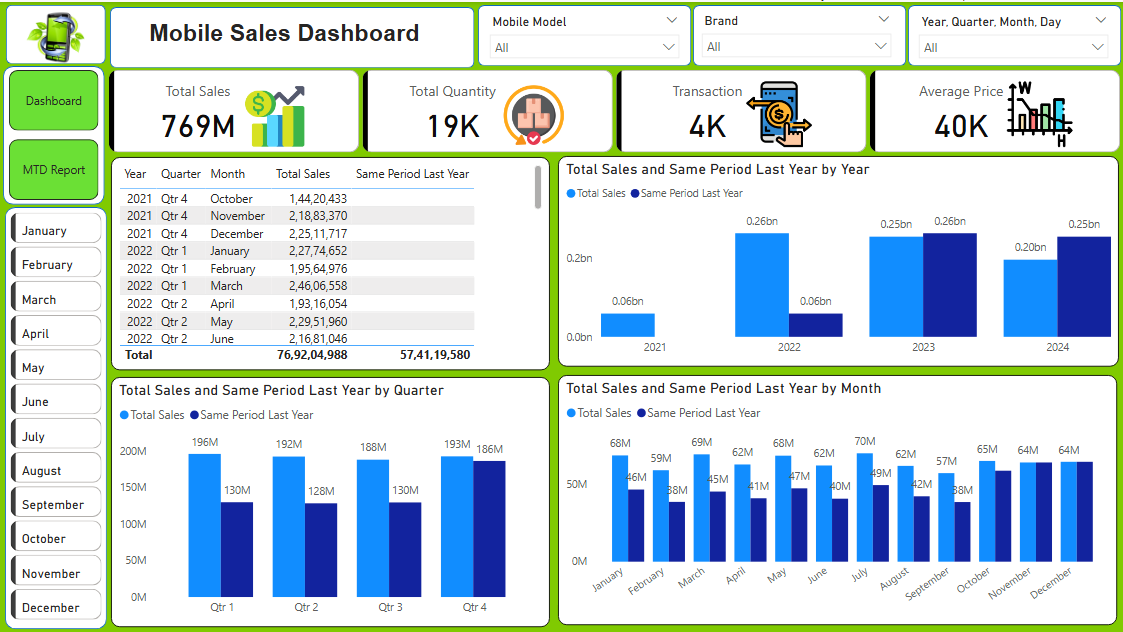

What the dashboard file says about the page in this screenshot:
{"tool":"powerbi","page":{"name":"Dashboard","canvas":[1280,720],"ordinal":0},"visuals":[{"type":"shape","box":[5.1,2.6,115.7,69.4],"z":0},{"type":"shape","box":[5.1,233.9,116,481],"z":1000},{"type":"image","box":[6.4,5.1,114.4,69.4],"z":2000},{"type":"shape","box":[3.9,73,115.7,158.1],"z":3000},{"type":"advancedSlicerVisual","fields":{"Values":["Custome_Calander.Date.Variation.Date Hierarchy.Month"]},"box":[5.1,236.5,114.4,474.2],"z":4000},{"type":"shape","box":[1034,3.9,242.9,69.4],"z":5000},{"type":"shape","box":[789,3.9,242.9,69.4],"z":6000},{"type":"shape","box":[544,3.9,242.9,69.4],"z":7000},{"type":"slicer","fields":{"Values":["Mobile Sales Data.Mobile Model"]},"box":[547.5,9,236.5,61],"z":8000},{"type":"slicer","fields":{"Values":["Mobile Sales Data.Brand"]},"box":[789.1,7.7,236.5,60.4],"z":9000},{"type":"slicer","fields":{"Values":["Mobile Sales Data.Payment Method"]},"box":[1037.1,9,236.5,60.4],"z":10000},{"type":"cardVisual","fields":{"Data":["Mobile Sales Data.Total Sales","Mobile Sales Data.Total Quantity","Mobile Sales Data.Transaction","Mobile Sales Data.Average Price"]},"box":[123,76,1154.1,96],"z":11000},{"type":"shape","box":[125,5.1,415.1,69.4],"z":12000},{"type":"textbox","box":[159.4,20.6,329,37.3],"z":13000},{"type":"lineChart","fields":{"Y":["Mobile Sales Data.Total Quantity"],"Category":["Custome_Calander.Date.Variation.Date Hierarchy.Month"]},"box":[547.5,174.8,728.7,172.2],"z":14000},{"type":"funnel","fields":{"Y":["CountNonNull(Mobile Sales Data.Customer Ratings)"],"Category":["Mobile Sales Data.Rating Status"]},"box":[546,353.4,352.1,168.4],"z":15000},{"type":"pieChart","fields":{"Y":["Mobile Sales Data.Transaction"],"Category":["Mobile Sales Data.Payment Method"]},"box":[904,353.4,373,168.4],"z":16000},{"type":"barChart","fields":{"Y":["Mobile Sales Data.Total Sales"],"Category":["Mobile Sales Data.Mobile Model"]},"box":[124.7,526,415.1,188],"z":17000},{"type":"areaChart","fields":{"Category":["Custome_Calander.Day Name"],"Y":["Mobile Sales Data.Total Sales"]},"box":[546,526,352.1,188],"z":18000},{"type":"tableEx","fields":{"Values":["Mobile Sales Data.Brand","Mobile Sales Data.Total Sales","Mobile Sales Data.Transaction","Sum(Mobile Sales Data.Units Sold)"]},"box":[903,525,372,188],"z":19000},{"type":"pageNavigator","box":[11.6,78.4,101.5,146.5],"z":20000},{"type":"map","fields":{"Category":["Mobile Sales Data.City"],"Size":["Mobile Sales Data.Total Sales"]},"box":[124.7,172.2,415.1,349.6],"z":21000}]}

Visuals, with their boxes in screenshot pixels (x1, y1, x2, y2), scaled from the page's 1280x720 canvas onto the 1123x632 screenshot:
shape: [x1=4, y1=2, x2=106, y2=63]
shape: [x1=4, y1=205, x2=106, y2=628]
image: [x1=6, y1=4, x2=106, y2=65]
shape: [x1=3, y1=64, x2=105, y2=203]
advancedSlicerVisual - Custome_Calander.Date.Variation.Date Hierarchy.Month: [x1=4, y1=208, x2=105, y2=624]
shape: [x1=907, y1=3, x2=1120, y2=64]
shape: [x1=692, y1=3, x2=905, y2=64]
shape: [x1=477, y1=3, x2=690, y2=64]
slicer - Mobile Sales Data.Mobile Model: [x1=480, y1=8, x2=688, y2=61]
slicer - Mobile Sales Data.Brand: [x1=692, y1=7, x2=900, y2=60]
slicer - Mobile Sales Data.Payment Method: [x1=910, y1=8, x2=1117, y2=61]
cardVisual - Mobile Sales Data.Total Sales x Mobile Sales Data.Total Quantity: [x1=108, y1=67, x2=1120, y2=151]
shape: [x1=110, y1=4, x2=474, y2=65]
textbox: [x1=140, y1=18, x2=428, y2=51]
lineChart - Mobile Sales Data.Total Quantity x Custome_Calander.Date.Variation.Date Hierarchy.Month: [x1=480, y1=153, x2=1120, y2=305]
funnel - CountNonNull(Mobile Sales Data.Customer Ratings) x Mobile Sales Data.Rating Status: [x1=479, y1=310, x2=788, y2=458]
pieChart - Mobile Sales Data.Transaction x Mobile Sales Data.Payment Method: [x1=793, y1=310, x2=1120, y2=458]
barChart - Mobile Sales Data.Total Sales x Mobile Sales Data.Mobile Model: [x1=109, y1=462, x2=474, y2=627]
areaChart - Custome_Calander.Day Name x Mobile Sales Data.Total Sales: [x1=479, y1=462, x2=788, y2=627]
tableEx - Mobile Sales Data.Brand x Mobile Sales Data.Total Sales: [x1=792, y1=461, x2=1119, y2=626]
pageNavigator: [x1=10, y1=69, x2=99, y2=197]
map - Mobile Sales Data.City x Mobile Sales Data.Total Sales: [x1=109, y1=151, x2=474, y2=458]
